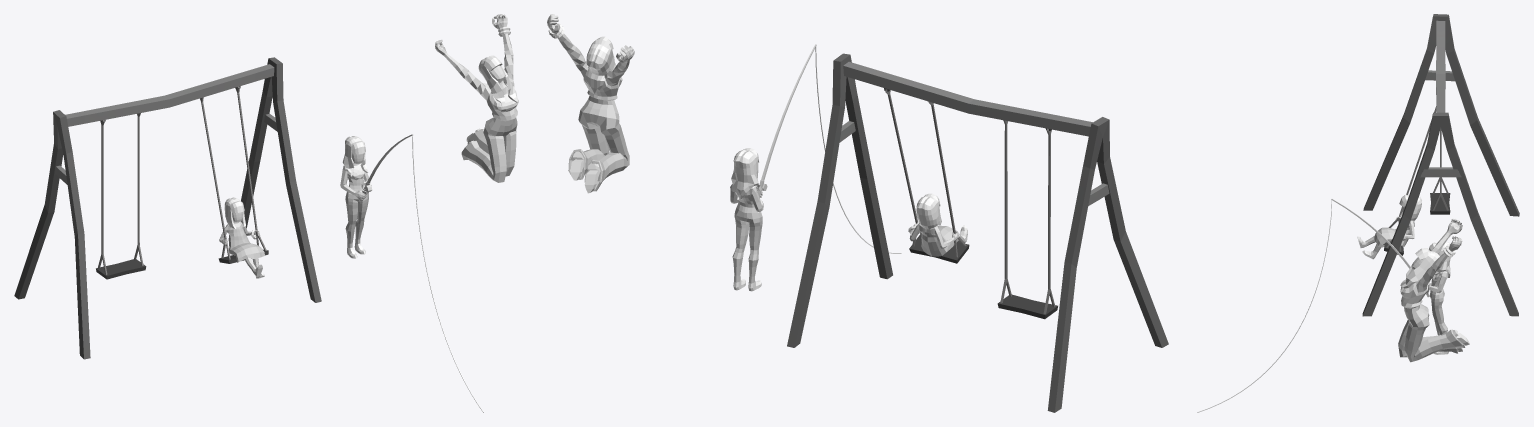
The model's file is scenes.fbx.
The picture shows the model from 3 angles, left to right: view 1: azimuth 30°, elevation 25°; view 2: azimuth 150°, elevation 25°; view 3: azimuth 270°, elevation 25°; orthographic projection. The views are drawn at different scales.
Parts seen in each view (by area): view 1: scene_01, scene_03, scene_02; view 2: scene_01, scene_03, scene_02; view 3: scene_01, scene_03, scene_02.
Part boxes in pixels (x1,y1,x2,y2): scene_01: [14, 57, 321, 359]; scene_03: [435, 14, 518, 182]; scene_02: [340, 134, 483, 412]; scene_01: [787, 53, 1168, 412]; scene_03: [547, 14, 634, 193]; scene_02: [730, 44, 901, 291]; scene_01: [1357, 14, 1519, 316]; scene_03: [1398, 218, 1469, 362]; scene_02: [1197, 199, 1450, 412].
Size of the model in its own units: 733 by 412 by 460.
